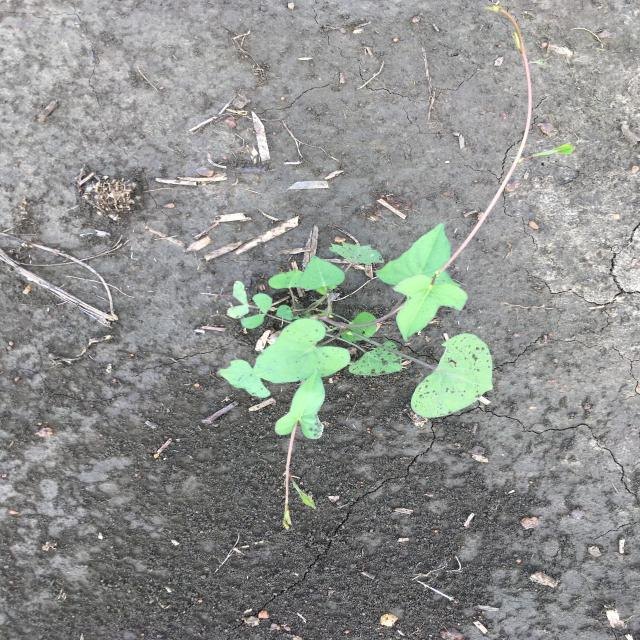MorningGlory: (213, 3, 578, 531)
